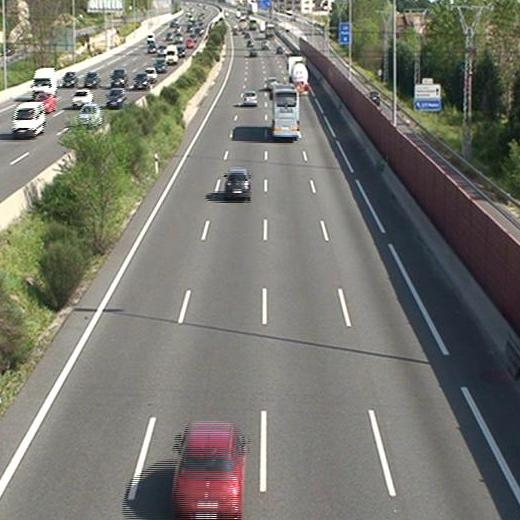bus: (271, 85, 300, 137)
car: (170, 424, 243, 520), (224, 170, 251, 198), (243, 90, 258, 106)
tank-truck: (287, 56, 308, 93)
